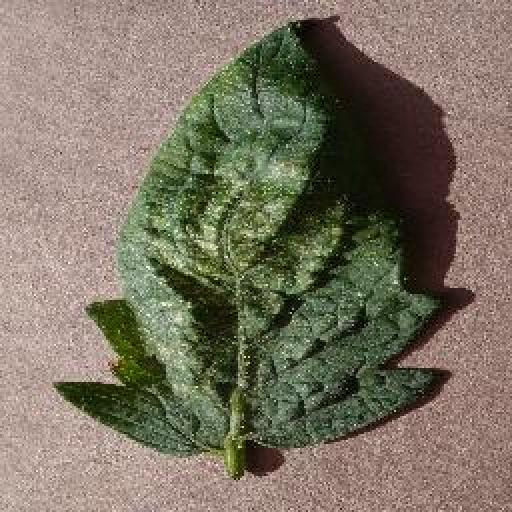disease_tomato: (57, 18, 435, 462)
